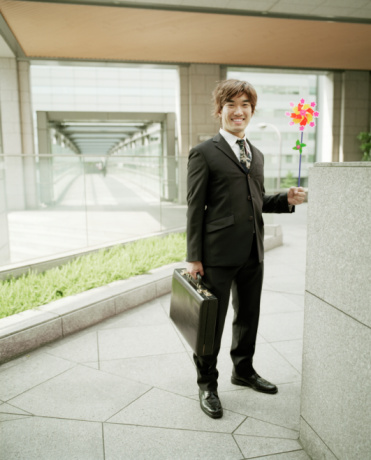em pe: (179, 79, 289, 410)
